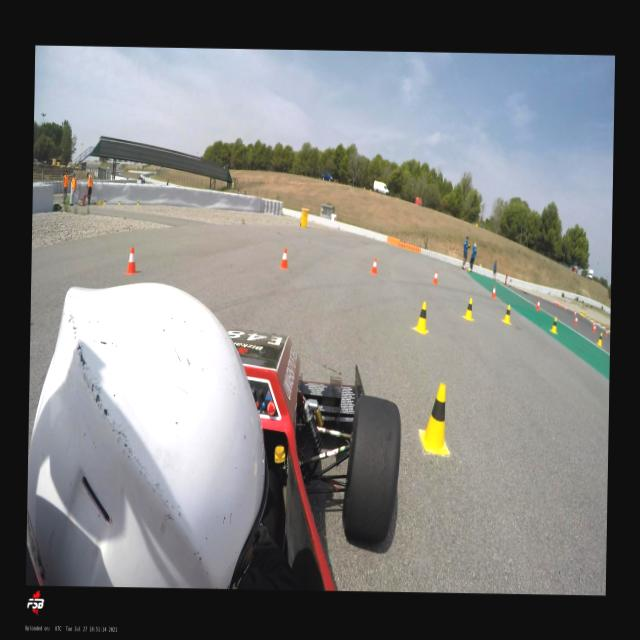orange_cone: (125, 246, 136, 274), (279, 248, 288, 270), (370, 257, 377, 275), (432, 270, 438, 284), (534, 298, 540, 310), (490, 285, 495, 298), (573, 315, 577, 325), (592, 324, 595, 332), (592, 321, 594, 328), (574, 310, 576, 317), (605, 330, 607, 336), (564, 304, 566, 310), (556, 300, 558, 306), (560, 302, 562, 308)
yellow_cone: (418, 382, 452, 456), (412, 301, 428, 333), (462, 297, 474, 320), (501, 305, 512, 324), (548, 316, 558, 334), (596, 332, 602, 348), (102, 198, 106, 204), (117, 198, 120, 204), (590, 316, 592, 322), (136, 200, 138, 206)
